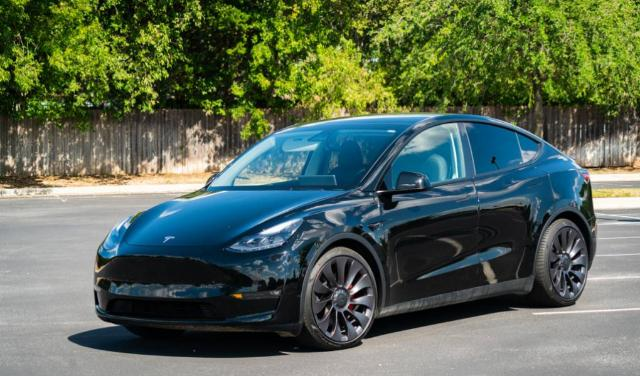tesla: (93, 114, 597, 350)
